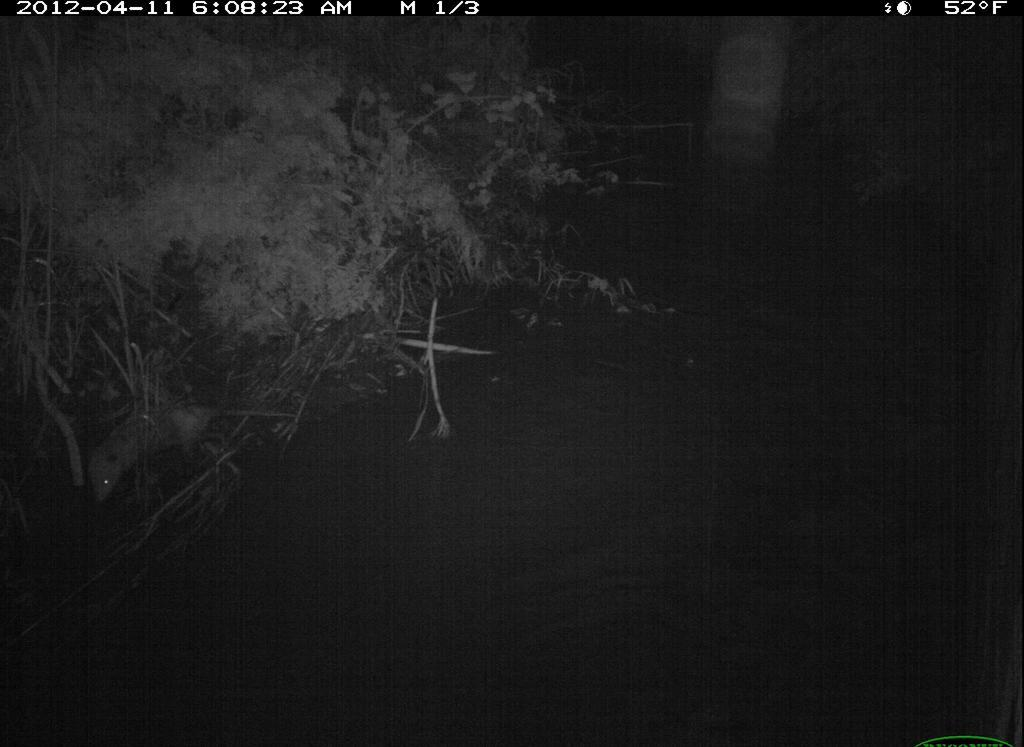opossum: (73, 391, 308, 504)
